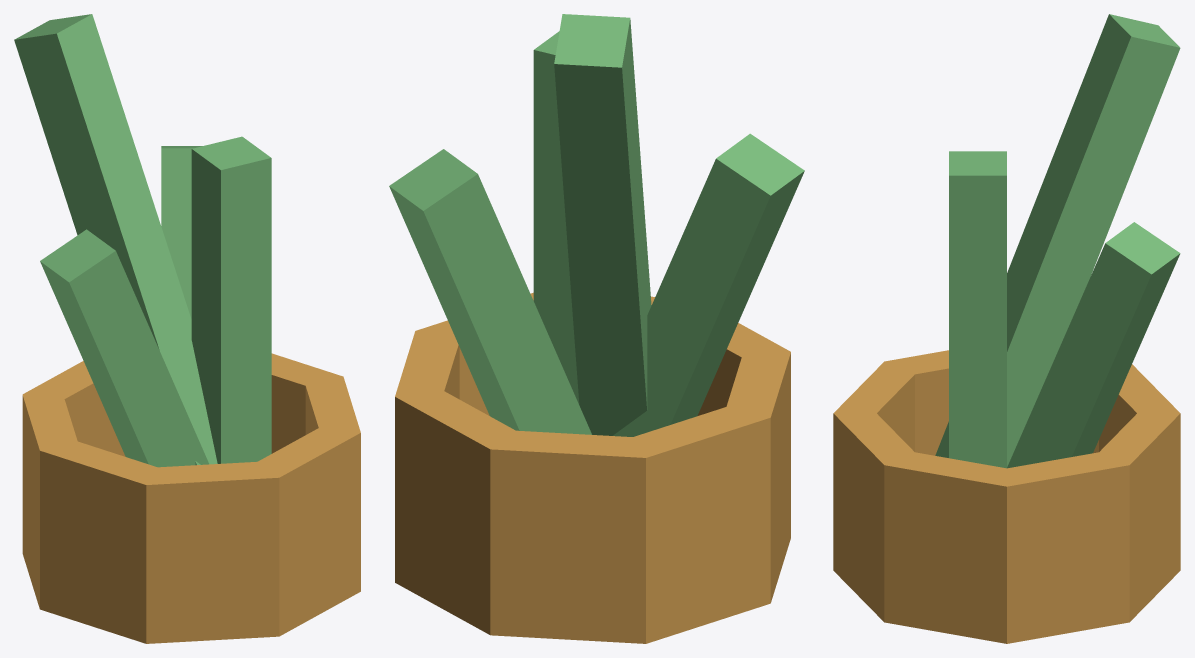
The model's file is plant_11.glb.
3 renders of one model, left to right at view 1: azimuth 30°, elevation 25°; view 2: azimuth 150°, elevation 25°; view 3: azimuth 270°, elevation 25°, orthographic. The views are drawn at different scales.
Visible parts, largest first — view 1: Mesh_Mesh_head_geo.001_lambert2SG.001; view 2: Mesh_Mesh_head_geo.001_lambert2SG.001; view 3: Mesh_Mesh_head_geo.001_lambert2SG.001.
Part boxes in pixels (left/top/right/bottom): Mesh_Mesh_head_geo.001_lambert2SG.001: left=14, top=14, right=360, bottom=643; Mesh_Mesh_head_geo.001_lambert2SG.001: left=389, top=14, right=804, bottom=643; Mesh_Mesh_head_geo.001_lambert2SG.001: left=833, top=14, right=1180, bottom=643.
Bounding box in the file's own units: 1.5 × 2.46 × 1.5.
